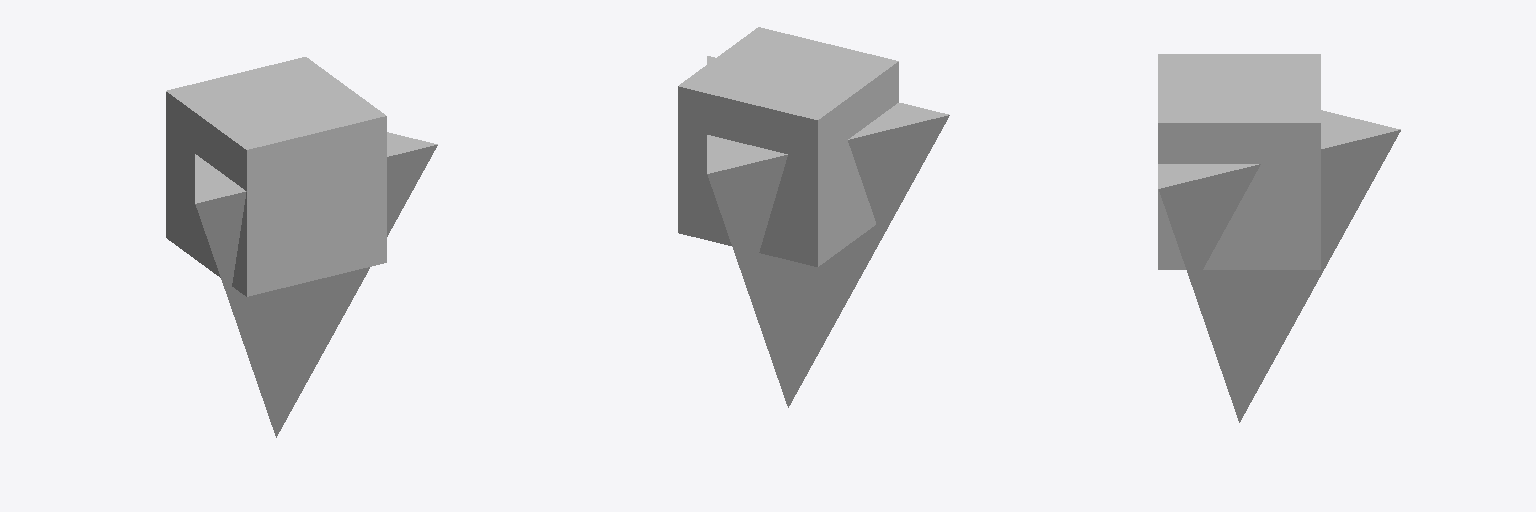
Rendered from sankaku.obj.
The picture shows the model from 3 angles: view 1: azimuth 30°, elevation 25°; view 2: azimuth 150°, elevation 25°; view 3: azimuth 270°, elevation 25°; orthographic projection.
Parts seen in each view (by area): view 1: Cube, Cone; view 2: Cube, Cone; view 3: Cube, Cone.
Part boxes in pixels (left/top/right/bottom): Cube: left=166, top=57, right=386, bottom=296; Cone: left=195, top=132, right=437, bottom=437; Cube: left=678, top=27, right=898, bottom=266; Cone: left=707, top=56, right=949, bottom=407; Cube: left=1158, top=54, right=1320, bottom=269; Cone: left=1158, top=110, right=1400, bottom=422.
Size of the model in its own units: 3.46 by 4.56 by 3.